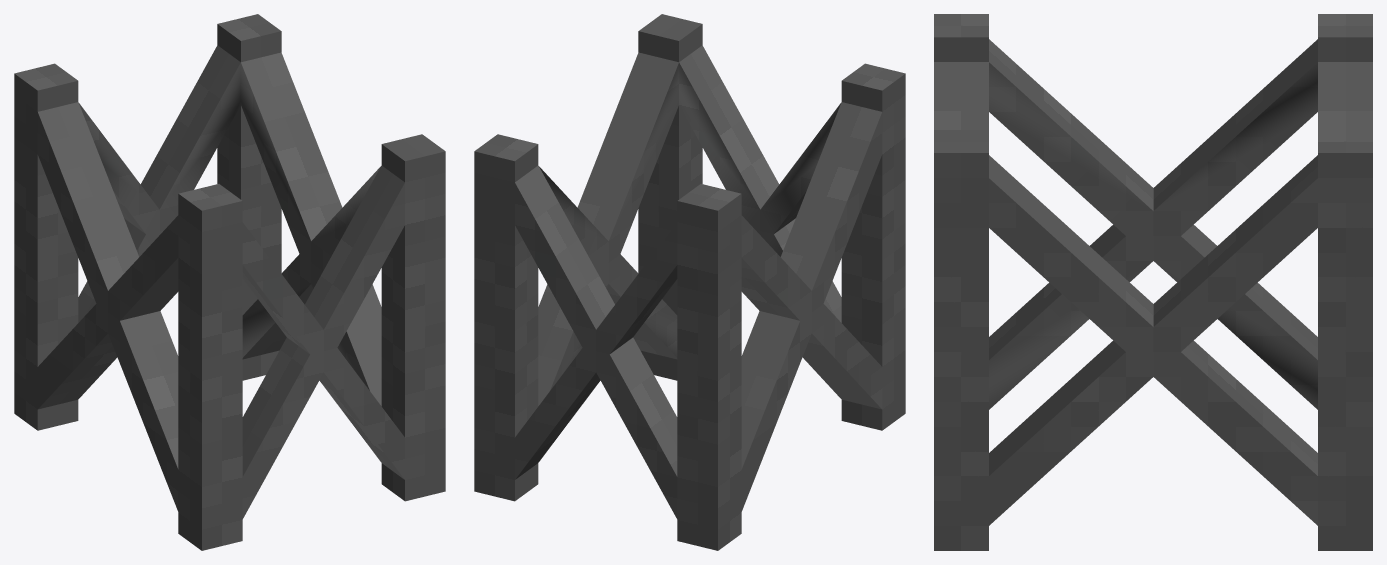
File: deco_steel_scaffold.obj
3 views of the same model, side by side, from view 1: azimuth 30°, elevation 25°; view 2: azimuth 150°, elevation 25°; view 3: azimuth 270°, elevation 25° (orthographic). The views are drawn at different scales.
Visible parts, largest first — view 1: scaffold_model; view 2: scaffold_model; view 3: scaffold_model.
Part boxes in pixels (x1=…): scaffold_model: x1=14, y1=14, x2=445, y2=550; scaffold_model: x1=474, y1=14, x2=905, y2=550; scaffold_model: x1=934, y1=14, x2=1372, y2=550.
Size of the model in its own units: 0.75 by 1 by 1.
